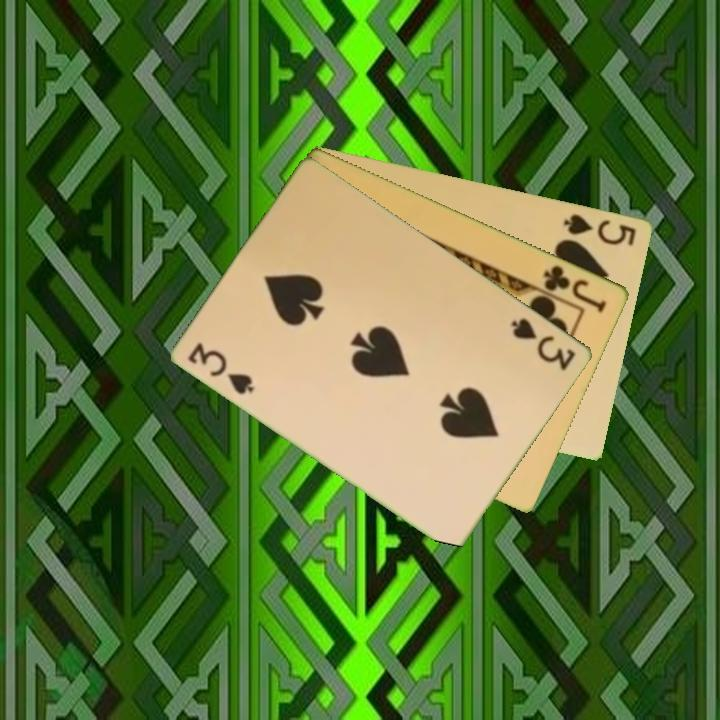3s: (185, 339, 258, 398), (508, 314, 579, 374)
5s: (560, 210, 640, 249)
Jc: (540, 261, 610, 316)
